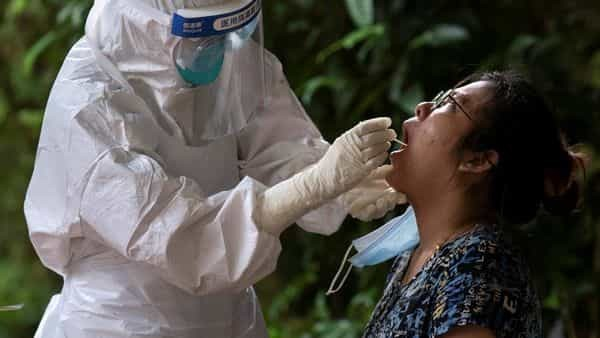Coverall: (15, 1, 338, 338)
Face_Shield: (158, 1, 271, 128)
Gloves: (265, 115, 396, 215), (333, 164, 408, 226)
with_mask: (173, 26, 229, 95)
without_mask: (391, 82, 485, 197)
